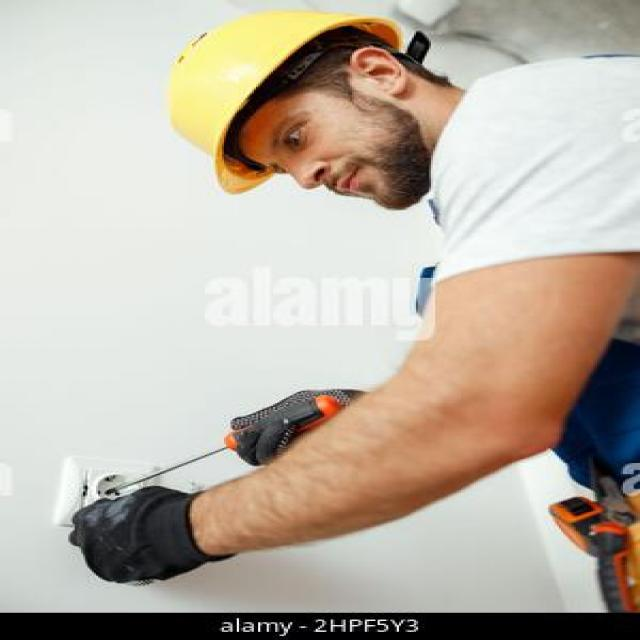screwdriver: (96, 394, 354, 495)
